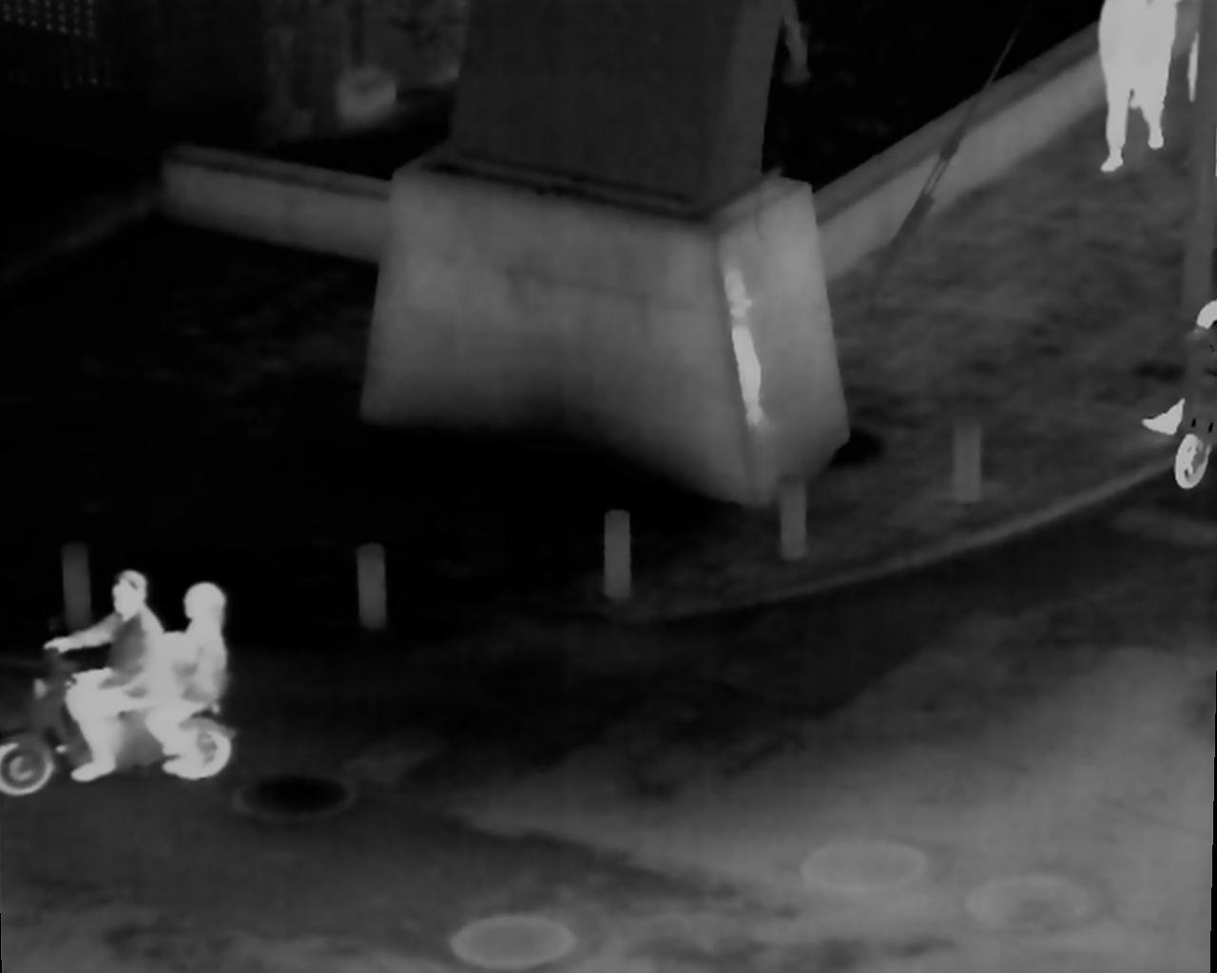person: (46, 567, 178, 778), (130, 577, 246, 777)
